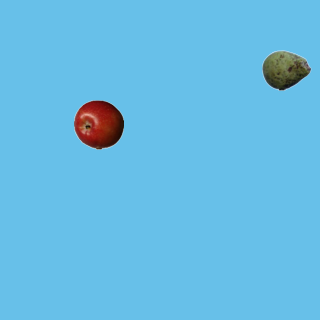Apple Braeburn: (73, 99, 123, 149)
Pear Stone: (261, 45, 311, 95)
